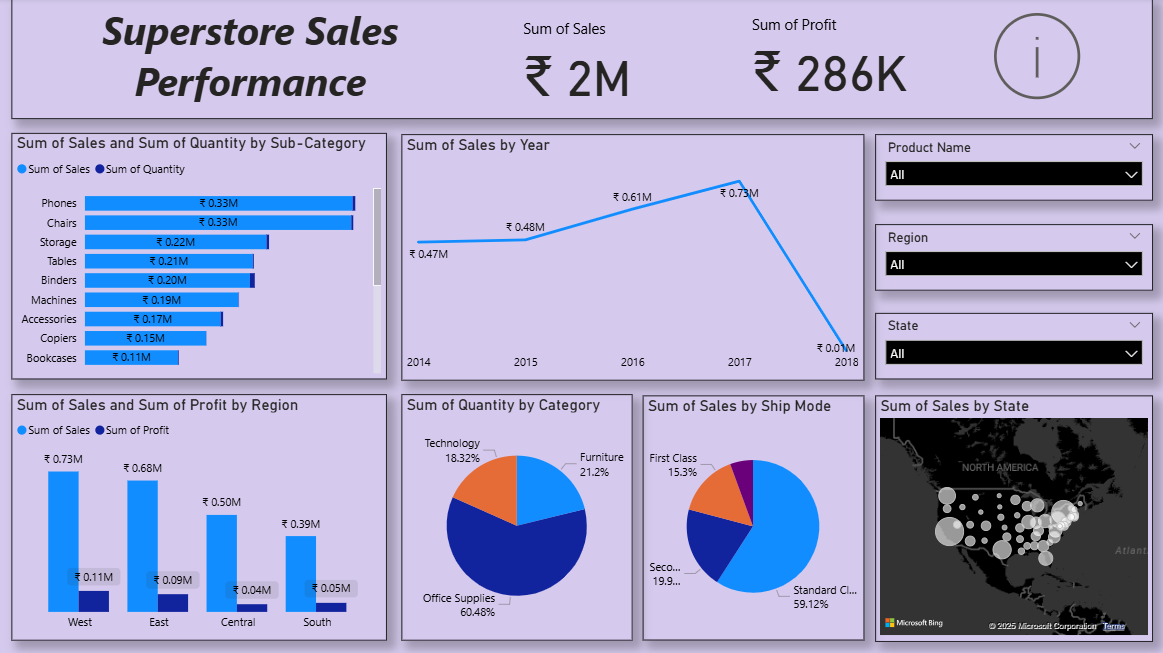

The page's visual inventory and layout, read from the dashboard file:
{"tool":"powerbi","page":{"name":"Page 1","canvas":[1280,720],"ordinal":0},"visuals":[{"type":"shape","box":[13.7,0,1252.8,133.1],"z":0,"group":"g1"},{"type":"cardVisual","fields":{"Data":["Sum(Superstore.Sales)"]},"box":[558.5,5.5,161.9,127.6],"z":1000,"group":"g1"},{"type":"cardVisual","fields":{"Data":["Sum(Superstore.Profit)"]},"box":[809.6,0,219.6,133.1],"z":2000,"group":"g1"},{"type":"barChart","fields":{"Category":["Superstore.Sub-Category"],"Y":["Sum(Superstore.Sales)","Sum(Superstore.Quantity)"]},"box":[13.7,148.2,411.7,270.3],"z":3000},{"type":"clusteredColumnChart","fields":{"Category":["Superstore.Region"],"Y":["Sum(Superstore.Sales)","Sum(Superstore.Profit)"]},"box":[13.7,435,411.7,270.3],"z":4000},{"type":"lineChart","fields":{"Category":["Superstore.Ship Date.Variation.Date Hierarchy.Year","Superstore.Ship Date.Variation.Date Hierarchy.Quarter","Superstore.Ship Date.Variation.Date Hierarchy.Month","Superstore.Ship Date.Variation.Date Hierarchy.Day","Superstore.Order Date.Variation.Date Hierarchy.Year","Superstore.Order Date.Variation.Date Hierarchy.Quarter","Superstore.Order Date.Variation.Date Hierarchy.Month","Superstore.Order Date.Variation.Date Hierarchy.Day"],"Y":["Sum(Superstore.Sales)"]},"box":[441.9,149.6,507.7,270.3],"z":5000},{"type":"pieChart","fields":{"Y":["Sum(Superstore.Quantity)"],"Series":["Superstore.Category"]},"box":[441.9,435,253.9,270.3],"z":6000},{"type":"pieChart","fields":{"Y":["Sum(Superstore.Sales)"],"Category":["Superstore.Ship Mode"]},"box":[706.7,436.4,242.9,269],"z":7000},{"type":"map","fields":{"Category":["Superstore.State"],"Size":["Sum(Superstore.Sales)"]},"box":[961.9,436.4,304.6,270.3],"z":8000},{"type":"slicer","fields":{"Values":["Superstore.Product Name"]},"box":[961.9,149.6,304.6,72.7],"z":9000},{"type":"slicer","fields":{"Values":["Superstore.Region"]},"box":[961.9,248.4,304.6,72.7],"z":10000},{"type":"slicer","fields":{"Values":["Superstore.State"]},"box":[961.9,345.8,304.6,72.7],"z":11000},{"type":"textbox","box":[27.4,0,496.7,133.1],"z":11001,"group":"g1"},{"type":"group","id":"g1","title":"Group 1","box":[13.7,0,1252.8,133.1],"z":11002},{"type":"actionButton","box":[1081.3,5.5,134.5,116.6],"z":11003}]}

Visuals, with their boxes in screenshot pixels (x1, y1, x2, y2), scaled from the page's 1280x720 canvas onto the 1163x653 screenshot:
shape: (12, 0, 1151, 121)
cardVisual - Sum(Superstore.Sales): (507, 5, 655, 121)
cardVisual - Sum(Superstore.Profit): (736, 0, 935, 121)
barChart - Superstore.Sub-Category x Sum(Superstore.Sales): (12, 134, 387, 380)
clusteredColumnChart - Superstore.Region x Sum(Superstore.Sales): (12, 395, 387, 640)
lineChart - Superstore.Ship Date.Variation.Date Hierarchy.Year x Superstore.Ship Date.Variation.Date Hierarchy.Quarter: (402, 136, 863, 381)
pieChart - Sum(Superstore.Quantity) x Superstore.Category: (402, 395, 632, 640)
pieChart - Sum(Superstore.Sales) x Superstore.Ship Mode: (642, 396, 863, 640)
map - Superstore.State x Sum(Superstore.Sales): (874, 396, 1151, 641)
slicer - Superstore.Product Name: (874, 136, 1151, 202)
slicer - Superstore.Region: (874, 225, 1151, 291)
slicer - Superstore.State: (874, 314, 1151, 380)
textbox: (25, 0, 476, 121)
"Group 1" group: (12, 0, 1151, 121)
actionButton: (982, 5, 1105, 111)
